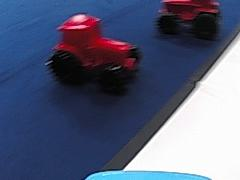Tracktor: (46, 12, 145, 90), (154, 0, 221, 36)
